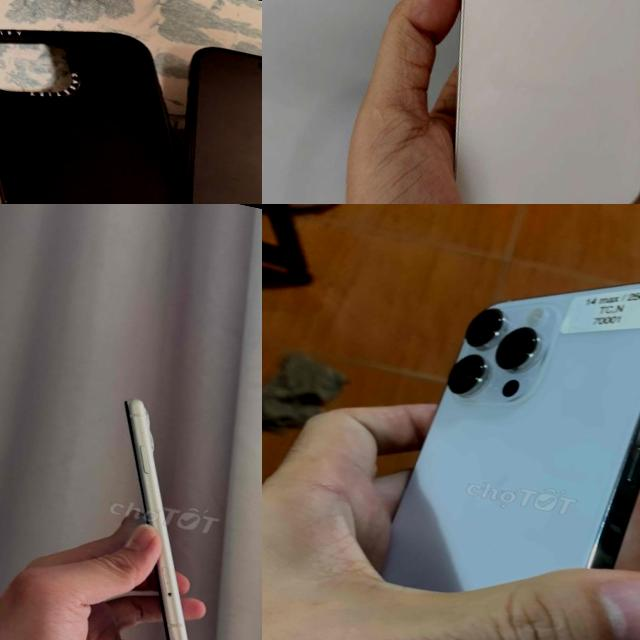gen_11: (125, 399, 187, 640)
gen_12_13: (375, 0, 640, 204)
gen_14: (322, 235, 640, 640)
gen_16: (141, 27, 262, 204)
